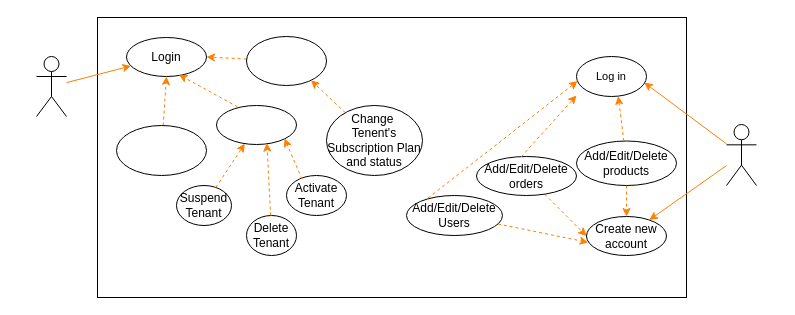
The diagram is 795 pixels wide and 315 high, and some of its shapes have lost their labels. The shapes that lost their labels are listed below. From the top down, each one's centre as x and y in pixels, then its label:
the point at 286,61: Manage Subscriptions
the point at 51,86: Super Admin
the point at 256,124: Manage Tenant
the point at 161,150: Monitor platform dashboard
the point at 741,155: Tenant Admin
